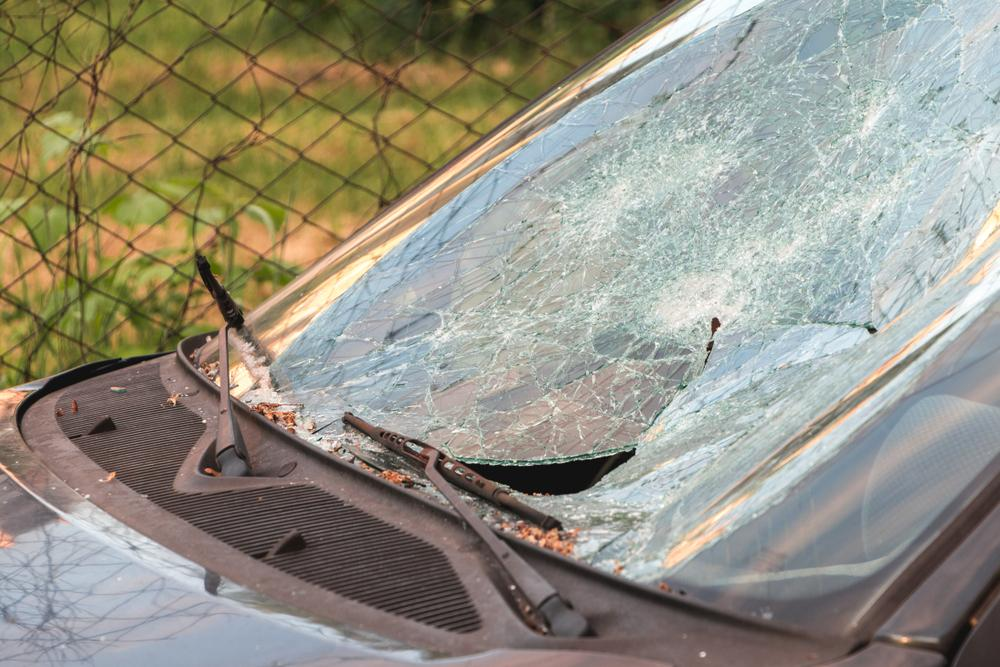glass shatter: (195, 0, 1000, 635)
